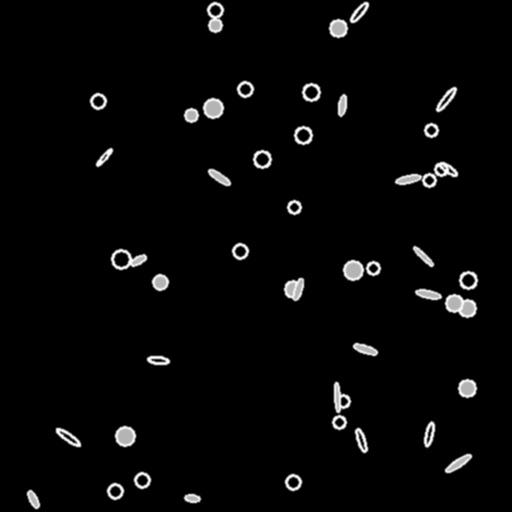pseudomonas: (434, 85, 458, 113), (444, 452, 472, 474), (54, 426, 82, 448), (412, 245, 434, 267), (207, 167, 231, 187), (349, 0, 369, 24), (437, 160, 459, 178), (354, 427, 368, 453), (353, 342, 377, 356), (423, 422, 435, 446), (292, 277, 304, 301), (96, 148, 112, 166), (26, 489, 40, 509), (395, 174, 421, 184), (416, 289, 440, 299), (130, 253, 146, 267), (337, 94, 347, 116), (334, 383, 340, 411), (148, 356, 168, 364), (184, 494, 200, 502)
synechocystis: (116, 427, 134, 445), (112, 250, 130, 268), (344, 261, 362, 279), (204, 99, 222, 117), (254, 151, 270, 167), (295, 127, 311, 143), (459, 300, 475, 316), (459, 380, 475, 396), (446, 295, 462, 311), (285, 281, 301, 297), (460, 272, 476, 288), (330, 20, 346, 36), (303, 84, 319, 100), (208, 3, 222, 17), (91, 94, 105, 108), (135, 473, 149, 487), (108, 484, 122, 498), (153, 275, 167, 289), (286, 475, 300, 489), (238, 82, 252, 96), (233, 244, 247, 258), (337, 395, 349, 407), (423, 174, 435, 186), (435, 163, 447, 175), (209, 19, 221, 31), (288, 201, 300, 213), (185, 109, 197, 121), (425, 124, 437, 136), (333, 416, 345, 428), (367, 262, 379, 274)
